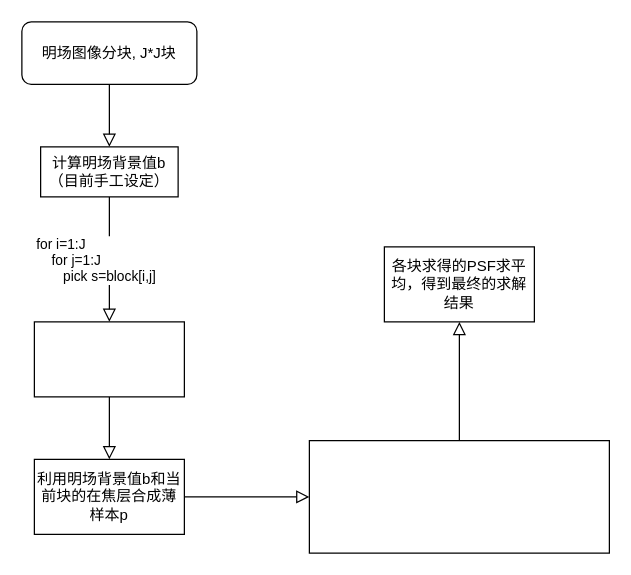
Some shapes in this 631 by 575 pixel diagram are drawn without their labels. Each missing label, with the centre of its shape:
"利用CLS解卷积算法（MATLAB中的`deconvreg`函数），根据s和p计算p*PSF+n=s中的PSF" goes at point (458, 496).
"利用ToG指标计算当前block的在焦层索引m" goes at point (108, 359).
